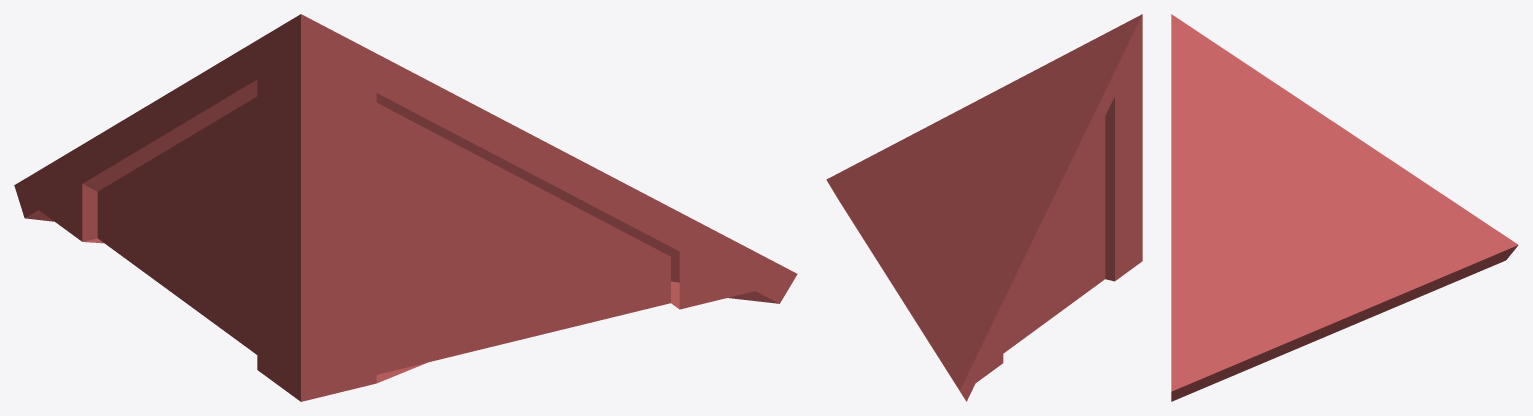
Rendered from roof_corner_red_01.glb.
3 renders of one model, left to right at view 1: azimuth 30°, elevation 25°; view 2: azimuth 150°, elevation 25°; view 3: azimuth 270°, elevation 25°, orthographic. The views are drawn at different scales.
Visible parts, largest first — view 1: Mesh1 Roof_Corner_Red Model; view 2: Mesh1 Roof_Corner_Red Model; view 3: Mesh1 Roof_Corner_Red Model.
Part boxes in pixels (left/top/right/bottom): Mesh1 Roof_Corner_Red Model: left=14, top=14, right=797, bottom=401; Mesh1 Roof_Corner_Red Model: left=826, top=14, right=1142, bottom=401; Mesh1 Roof_Corner_Red Model: left=1171, top=14, right=1518, bottom=401.
Bounding box in the file's own units: 3.28 × 2.57 × 3.28.
